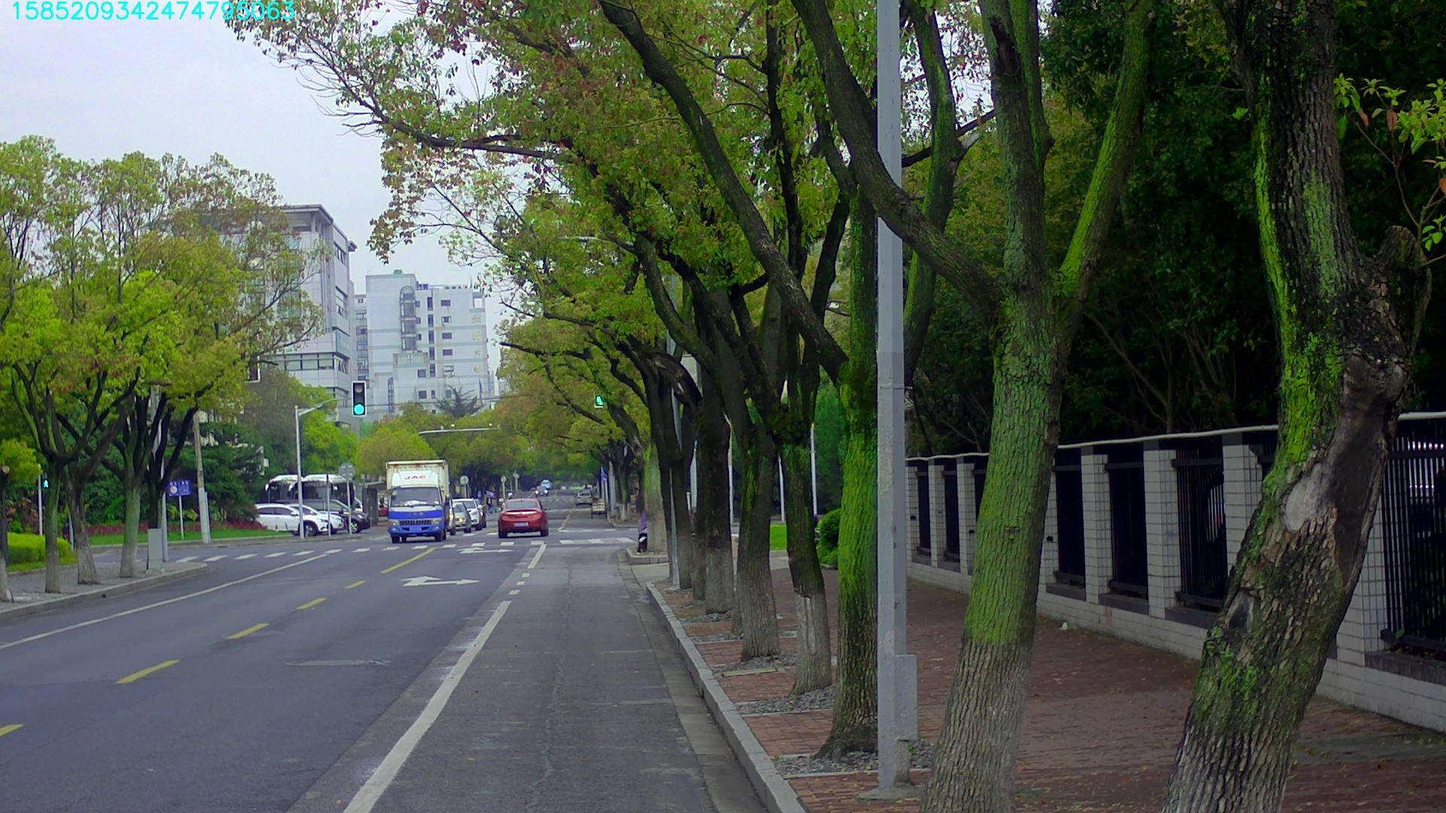green: (352, 381, 365, 416), (593, 389, 609, 406)
